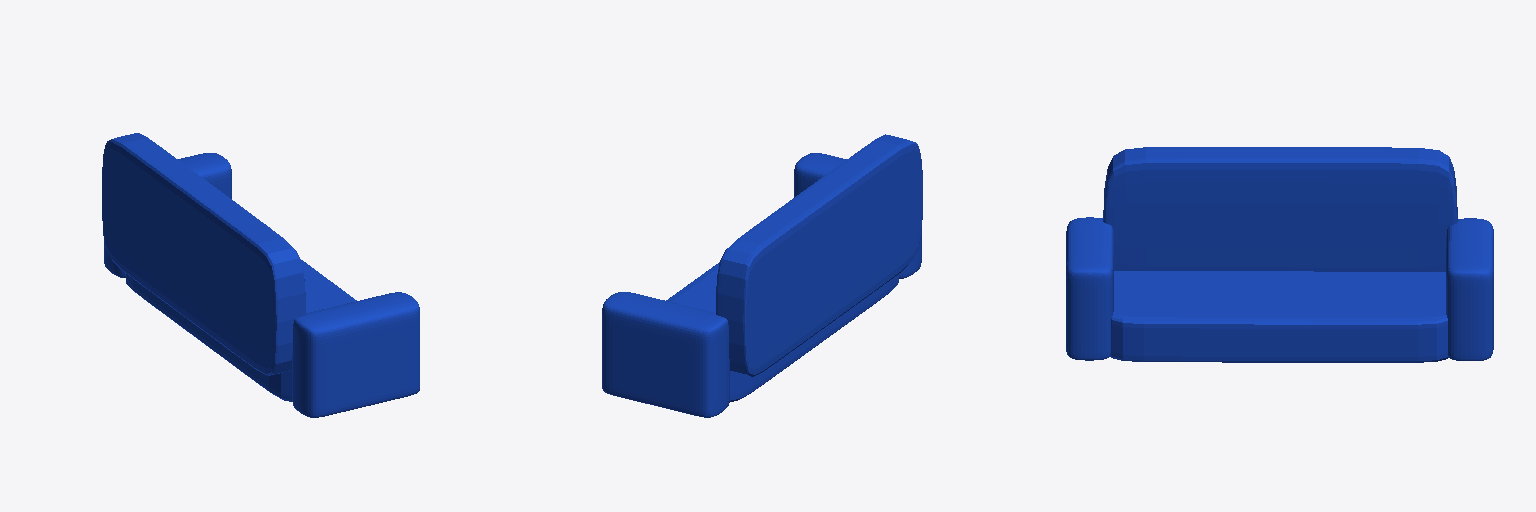
Rendered from couch.obj.
3 views of the same model, side by side, from view 1: azimuth 30°, elevation 25°; view 2: azimuth 150°, elevation 25°; view 3: azimuth 270°, elevation 25° (orthographic).
Visible parts, largest first — view 1: Cube.003_Cube.008, Cube.001_Cube.006, Cube_Cube.005, Cube.002_Cube.007; view 2: Cube.003_Cube.008, Cube.002_Cube.007, Cube_Cube.005, Cube.001_Cube.006; view 3: Cube.003_Cube.008, Cube_Cube.005, Cube.002_Cube.007, Cube.001_Cube.006.
Part boxes in pixels (bbox=[...]): Cube.003_Cube.008: bbox=[102, 133, 305, 375]; Cube.001_Cube.006: bbox=[292, 292, 419, 417]; Cube_Cube.005: bbox=[126, 260, 356, 401]; Cube.002_Cube.007: bbox=[104, 153, 231, 277]; Cube.003_Cube.008: bbox=[716, 134, 922, 376]; Cube.002_Cube.007: bbox=[602, 292, 729, 417]; Cube_Cube.005: bbox=[666, 262, 898, 402]; Cube.001_Cube.006: bbox=[794, 153, 921, 278]; Cube.003_Cube.008: bbox=[1103, 147, 1457, 271]; Cube_Cube.005: bbox=[1110, 271, 1448, 362]; Cube.002_Cube.007: bbox=[1446, 218, 1493, 360]; Cube.001_Cube.006: bbox=[1066, 217, 1113, 360].
Size of the model in its own units: 2 by 2.18 by 5.48.